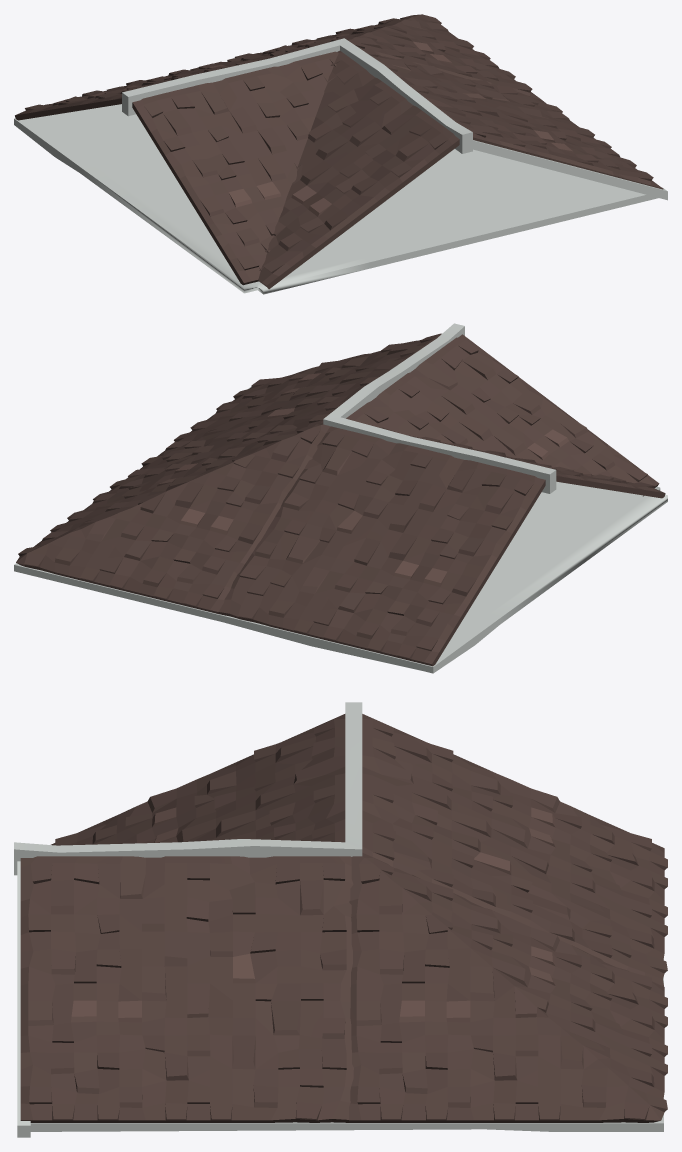
Rendered from SM_Bld_Mansion_Roof_Corner_01.glb.
The picture shows the model from 3 angles, top to bottom: view 1: azimuth 30°, elevation 25°; view 2: azimuth 150°, elevation 25°; view 3: azimuth 270°, elevation 25°; orthographic projection. The views are drawn at different scales.
Parts seen in each view (by area): view 1: SM_Bld_Mansion_Roof_Corner_01; view 2: SM_Bld_Mansion_Roof_Corner_01; view 3: SM_Bld_Mansion_Roof_Corner_01.
Part boxes in pixels (<box>): SM_Bld_Mansion_Roof_Corner_01: <box>14,14,667,294</box>; SM_Bld_Mansion_Roof_Corner_01: <box>14,323,667,673</box>; SM_Bld_Mansion_Roof_Corner_01: <box>14,702,667,1137</box>.
Size of the model in its own units: 0.1198 by 0.0327 by 0.1195.
1 material, 1 textured.
